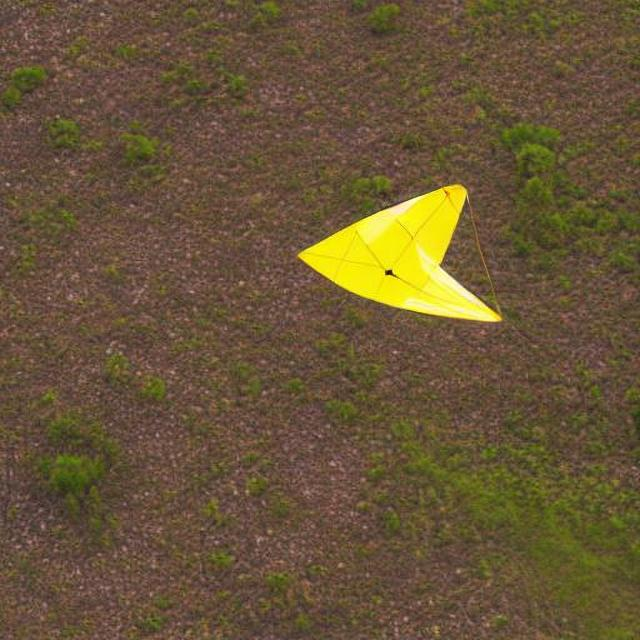floating object: (295, 187, 500, 322)
